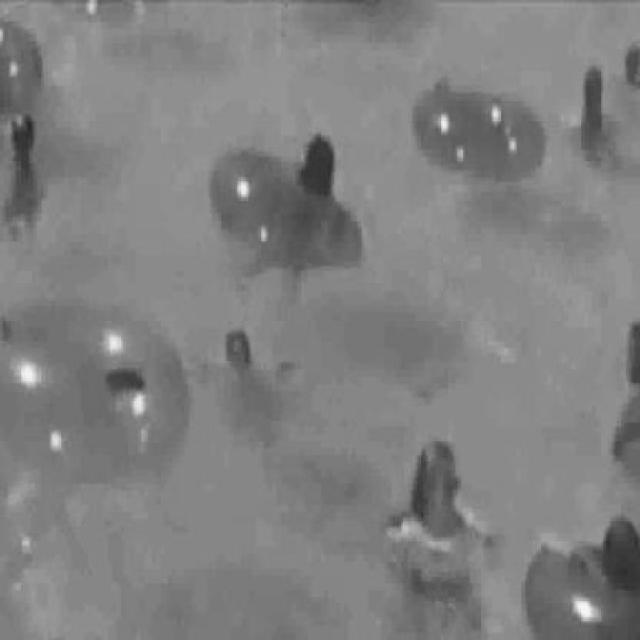drowning: (382, 443, 490, 583), (217, 323, 272, 431), (4, 102, 44, 242), (566, 62, 620, 163), (618, 34, 640, 101)
